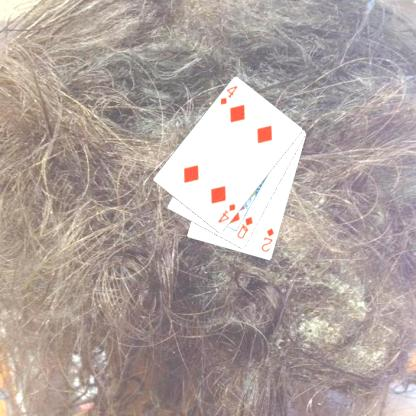2D: (259, 226, 275, 254)
4D: (215, 201, 237, 224), (217, 83, 239, 106)
QD: (234, 214, 254, 240)
